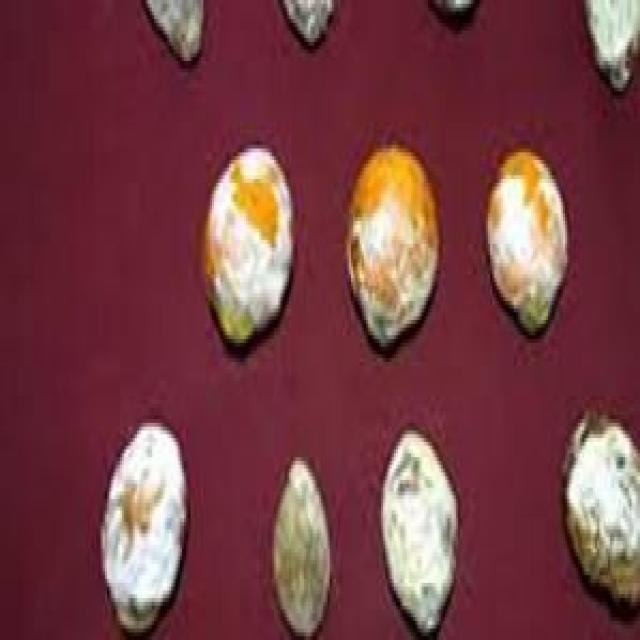damaged: (347, 145, 437, 343), (101, 423, 184, 625), (205, 152, 291, 343), (488, 149, 565, 331), (383, 430, 452, 629), (565, 415, 638, 598), (274, 457, 327, 632)
